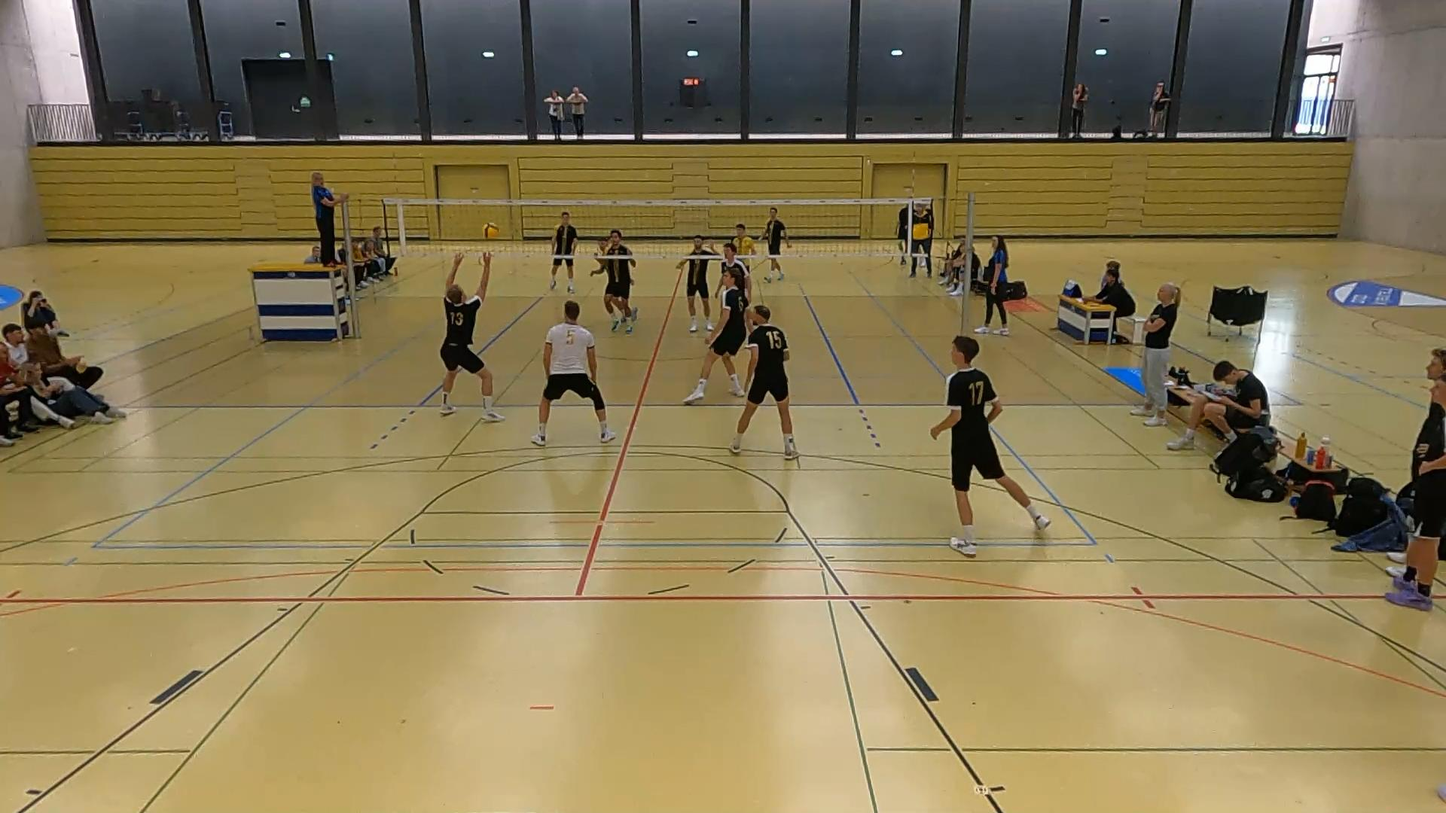ricezione: (428, 243, 510, 428)
